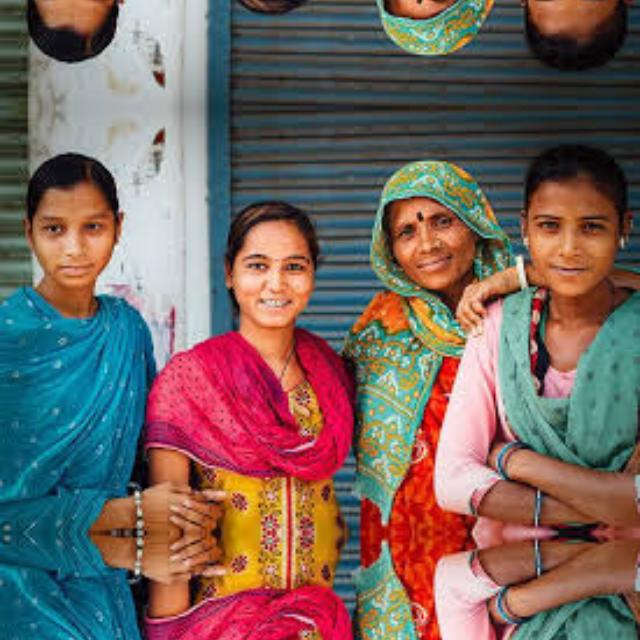person: (136, 192, 356, 522), (0, 133, 162, 532), (494, 131, 640, 533), (364, 141, 498, 533), (136, 542, 356, 640), (0, 533, 162, 640), (494, 533, 640, 640), (363, 533, 498, 640), (0, 0, 162, 80), (494, 0, 640, 83), (363, 0, 498, 73), (136, 0, 356, 22)
